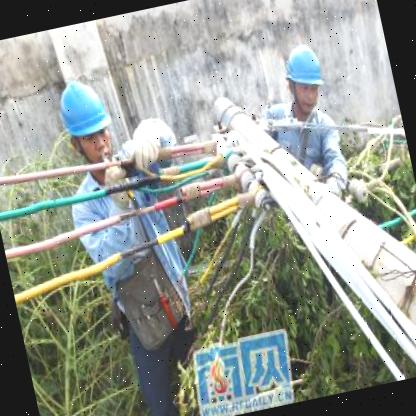capacete: (52, 70, 124, 178), (276, 40, 332, 121)
sem_colete_refletivo: (58, 144, 202, 353), (260, 93, 356, 218)
